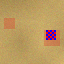vehicle: (4, 17, 15, 28)
